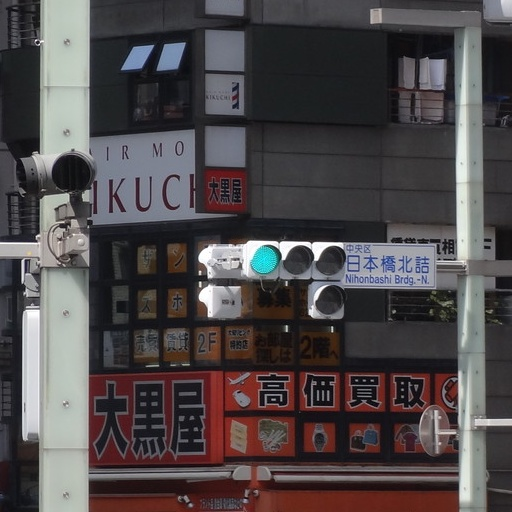Traffic_Signal_Blue: (243, 228, 354, 286)
